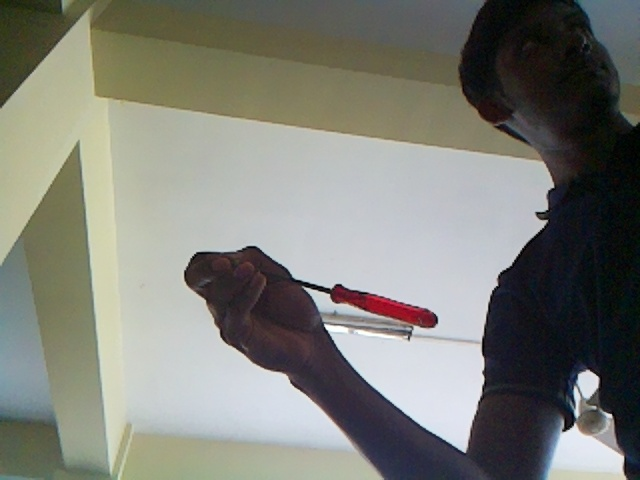redskrew: (255, 270, 442, 340)
